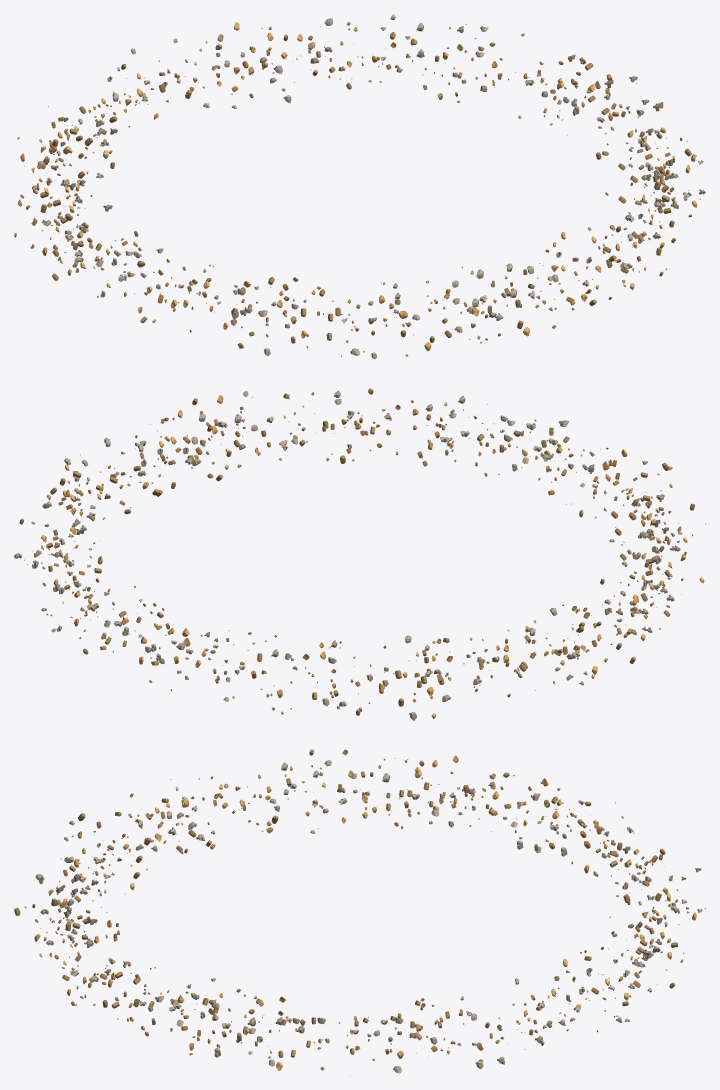
Rendered from planet-outer-ring-centered.glb.
The picture shows the model from 3 angles, top to bottom: view 1: azimuth 30°, elevation 25°; view 2: azimuth 150°, elevation 25°; view 3: azimuth 270°, elevation 25°; orthographic projection. The views are drawn at different scales.
Visible parts, largest first — view 1: planet.002, planet.003; view 2: planet.002, planet.003; view 3: planet.002, planet.003.
Part boxes in pixels (left/top/right/bottom): planet.002: left=14, top=14, right=705, bottom=356; planet.003: left=14, top=15, right=704, bottom=359; planet.002: left=14, top=388, right=705, bottom=718; planet.003: left=15, top=391, right=705, bottom=720; planet.002: left=14, top=749, right=705, bottom=1075; planet.003: left=24, top=749, right=705, bottom=1068.
Size of the model in its own units: 32.21 by 3.85 by 32.61.
1 material, 1 textured.
